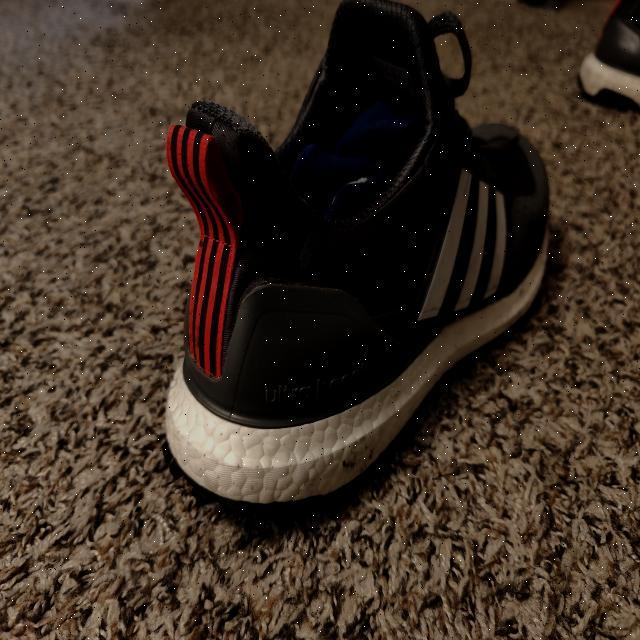black shoes: (158, 0, 525, 464)
